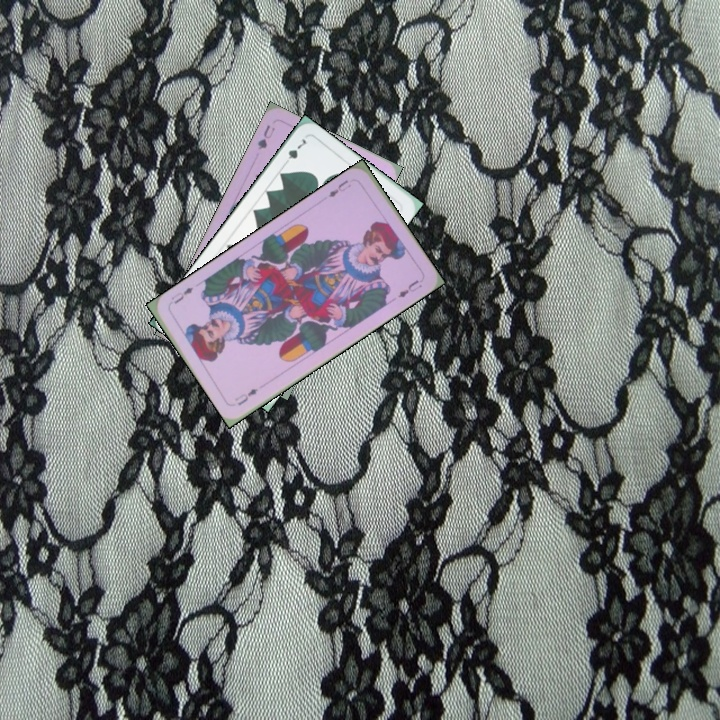EU: (230, 384, 261, 408), (324, 176, 354, 200)
G7: (279, 134, 309, 169)
GU: (253, 121, 278, 152)
